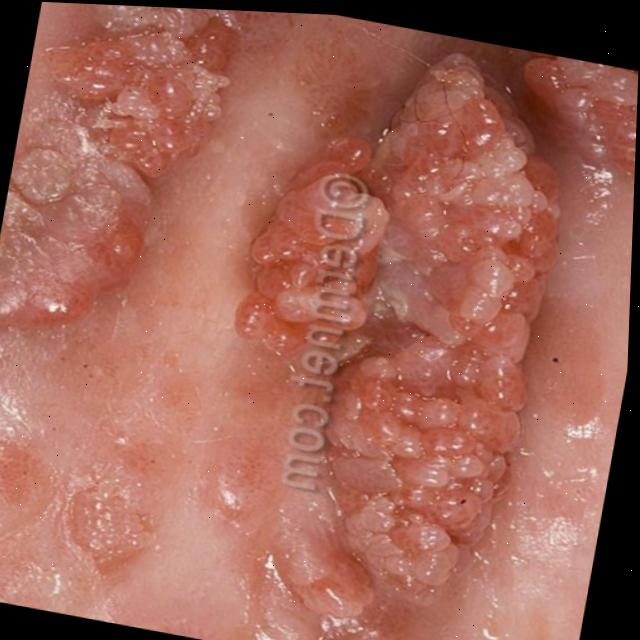Shingles: (179, 9, 640, 640), (0, 0, 239, 357)
